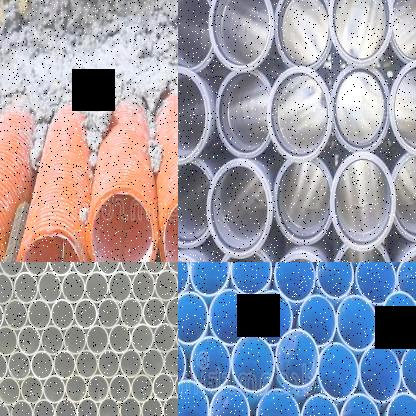pipe: (206, 158, 272, 260), (330, 151, 396, 252), (267, 66, 333, 163), (87, 187, 158, 262), (273, 157, 333, 245), (215, 70, 272, 158), (331, 66, 390, 150), (208, 0, 274, 71), (328, 0, 394, 66), (273, 0, 332, 69), (178, 66, 211, 164), (178, 158, 213, 248), (275, 329, 320, 388), (389, 59, 416, 156), (230, 334, 274, 393), (358, 344, 401, 404), (178, 0, 214, 71), (15, 228, 88, 262), (317, 342, 359, 400), (336, 295, 378, 351), (209, 289, 250, 346), (250, 290, 292, 345), (391, 153, 416, 242), (190, 337, 230, 390), (298, 294, 336, 348), (381, 291, 416, 344), (355, 262, 396, 305), (274, 262, 315, 303), (390, 0, 416, 63), (178, 291, 208, 344), (316, 262, 354, 299), (230, 262, 272, 295), (189, 262, 229, 296), (210, 385, 250, 416), (255, 389, 300, 416), (331, 244, 394, 262), (178, 380, 209, 416), (340, 393, 380, 416), (400, 343, 416, 400), (301, 393, 340, 416), (396, 262, 416, 305), (214, 248, 274, 262), (14, 271, 39, 304), (96, 297, 121, 329), (61, 272, 86, 304), (119, 297, 144, 329), (4, 299, 29, 330), (27, 299, 52, 330), (50, 299, 75, 330), (38, 272, 62, 304), (85, 271, 109, 303), (40, 324, 64, 356), (132, 270, 156, 302), (154, 269, 178, 301), (7, 351, 32, 381), (108, 271, 132, 302), (74, 298, 98, 329), (63, 324, 87, 355), (108, 323, 132, 354), (130, 323, 154, 354), (142, 297, 166, 328), (17, 326, 41, 356), (30, 350, 54, 380), (386, 392, 416, 416), (20, 375, 44, 404), (98, 349, 121, 379), (119, 348, 142, 378), (142, 348, 165, 378), (86, 324, 109, 354), (152, 372, 175, 402), (43, 374, 66, 404), (154, 322, 176, 353), (130, 374, 154, 402), (108, 374, 132, 402), (86, 374, 110, 402), (53, 350, 76, 379), (64, 374, 87, 403), (76, 350, 98, 380), (0, 376, 21, 405), (0, 325, 18, 355), (0, 272, 14, 304), (178, 338, 186, 393), (97, 397, 120, 416), (163, 347, 178, 376), (119, 397, 141, 416), (76, 397, 98, 416), (141, 397, 163, 416), (165, 295, 178, 327), (55, 398, 77, 416), (10, 399, 33, 416), (32, 399, 55, 416), (23, 262, 49, 276), (0, 262, 24, 277), (72, 262, 97, 276), (48, 262, 73, 276), (95, 262, 120, 275), (119, 262, 144, 275), (162, 396, 178, 416), (143, 262, 168, 274), (0, 351, 8, 381), (0, 401, 11, 416)
